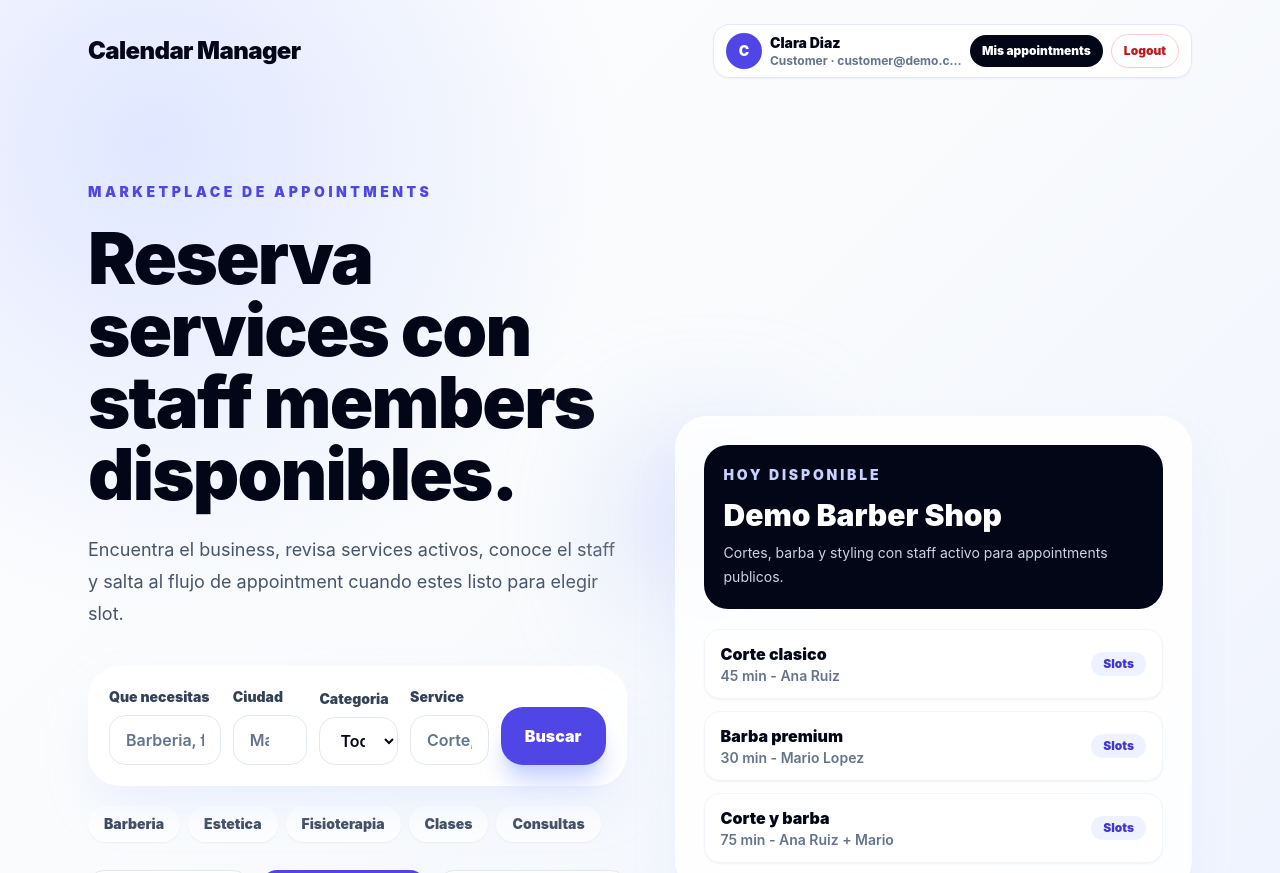
Scenario: frontend shell › clears a public customer session from the header logout
The width and height of the screenshot is (1280, 873).
Click the button "Logout" at (1145, 51), box 1111,34 -> 1179,68
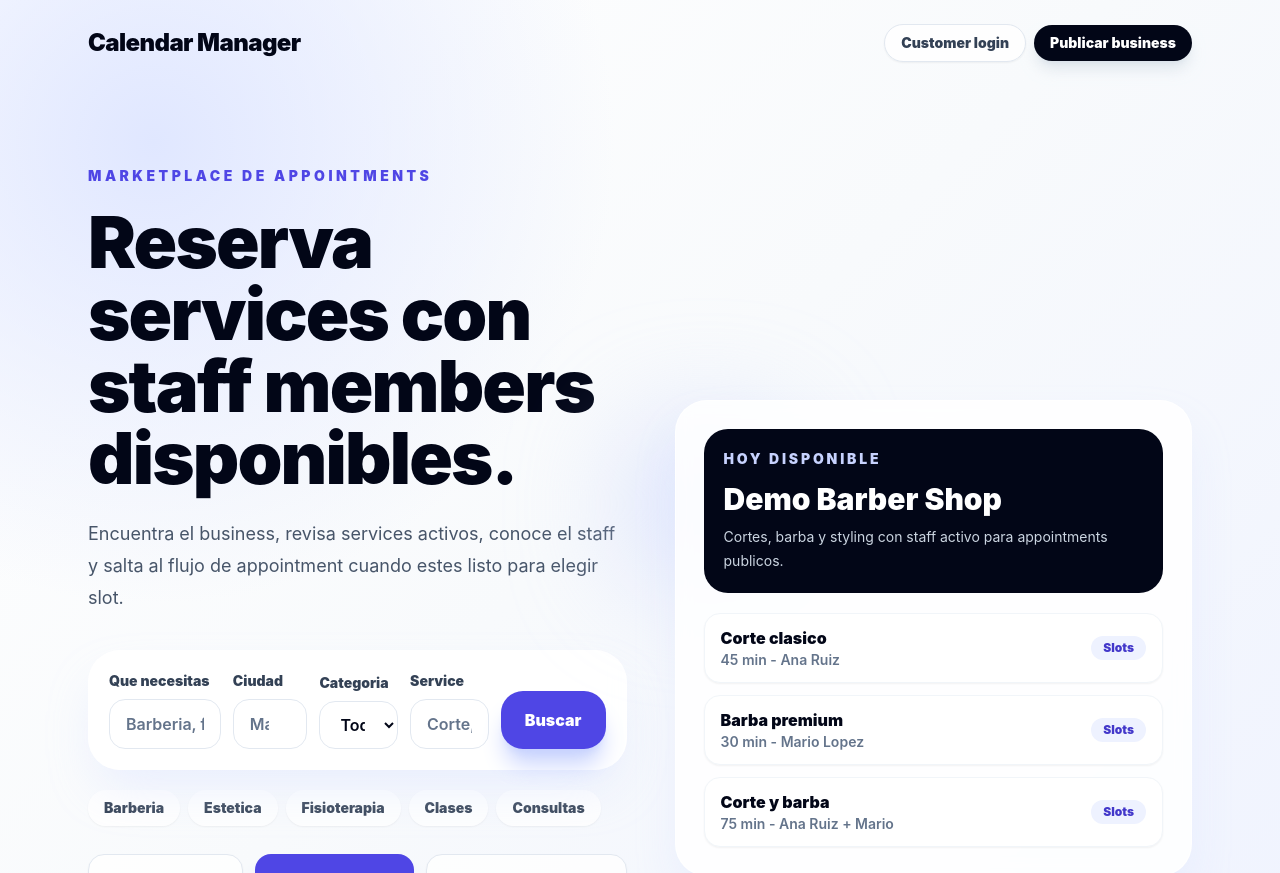
Expected: the link "Customer login" is shown, 884,24 -> 1026,62
Expected: the link "Publicar business" is shown, 1034,25 -> 1192,61
